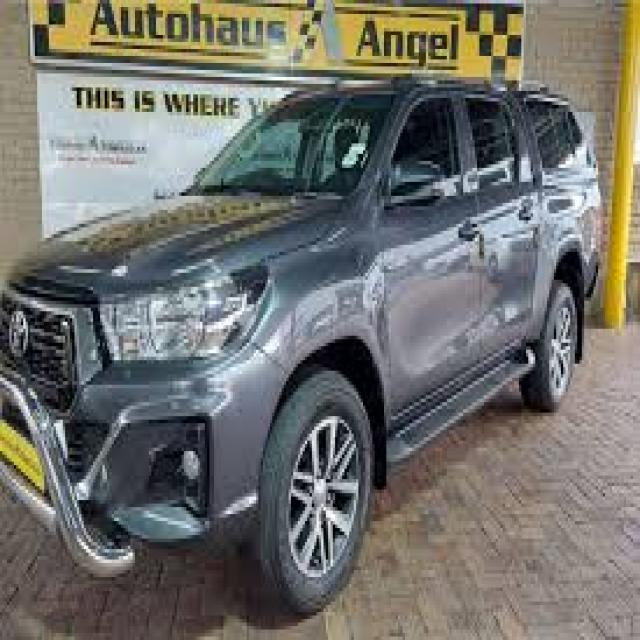Pickup Trucks: (2, 84, 610, 622)
